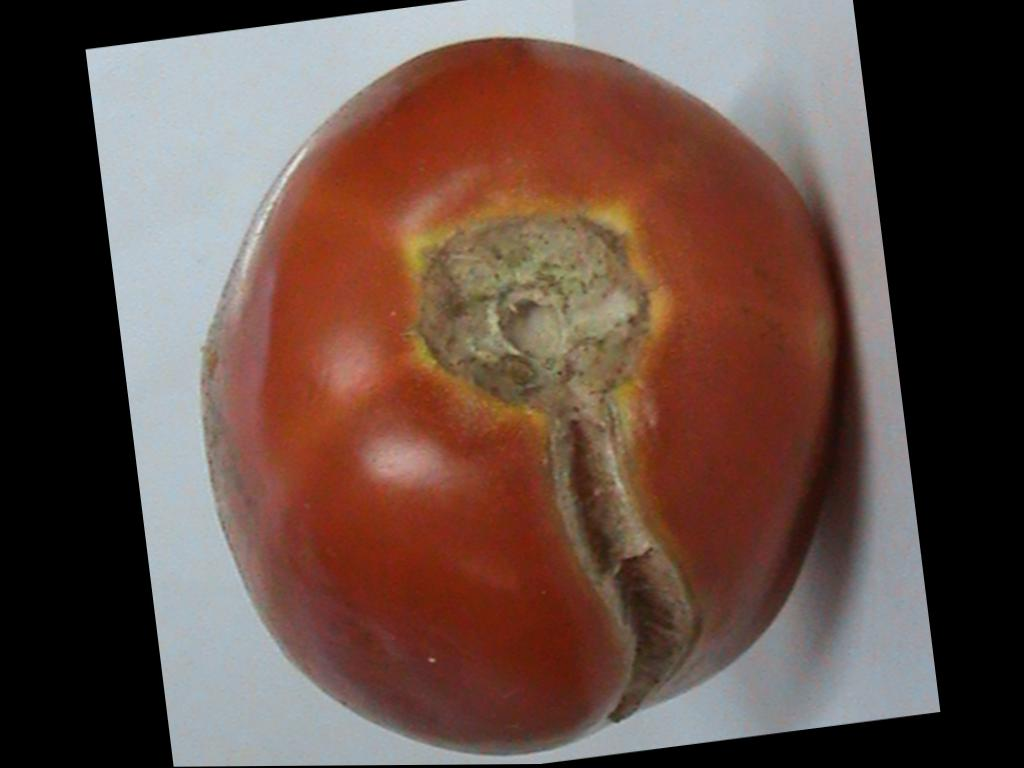surface_damage: (546, 391, 694, 719)
tomato: (203, 39, 835, 754)
